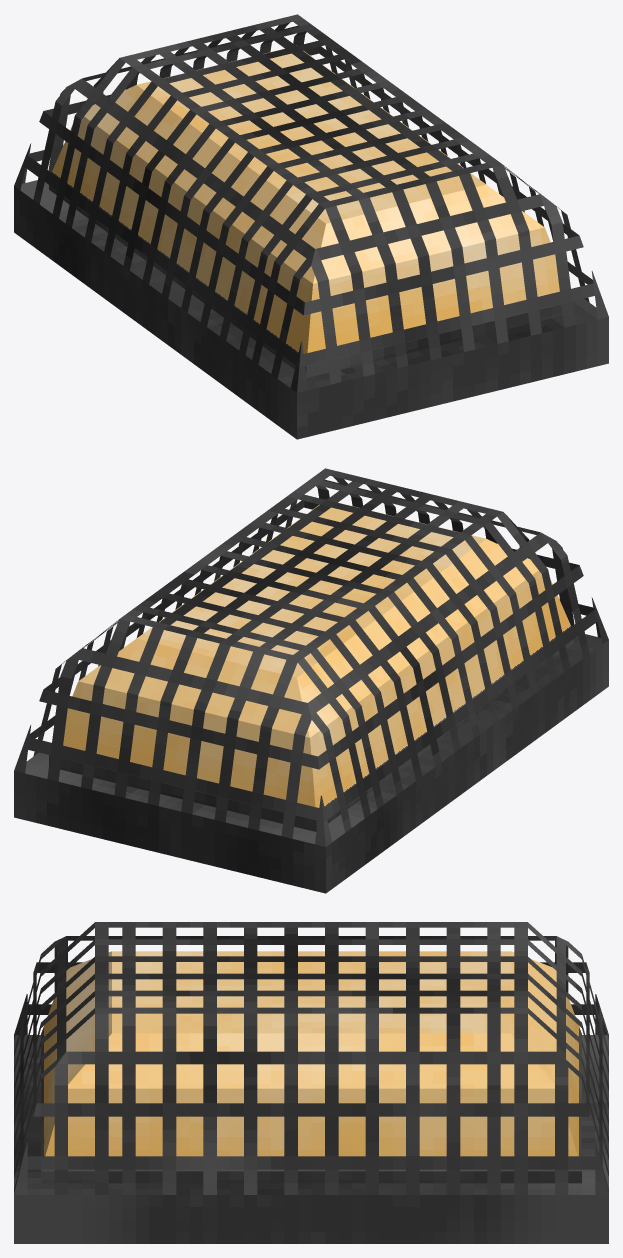
The model's file is v3_industrial_light.gltf.
3 views of the same model, one above another, from view 1: azimuth 30°, elevation 25°; view 2: azimuth 150°, elevation 25°; view 3: azimuth 270°, elevation 25° (orthographic). The views are drawn at different scales.
Parts seen in each view (by area): view 1: Shell, Light; view 2: Shell, Light; view 3: Shell, Light.
Part boxes in pixels (x1=…): Shell: x1=14, y1=14, x2=608, y2=439; Light: x1=49, y1=45, x2=573, y2=377; Shell: x1=14, y1=468, x2=608, y2=893; Light: x1=49, y1=499, x2=573, y2=831; Shell: x1=14, y1=922, x2=608, y2=1243; Light: x1=41, y1=951, x2=581, y2=1183.
Bounding box in the file's own units: 0.875 × 0.5 × 1.38.
Materials: 1 (1 with a texture image).
